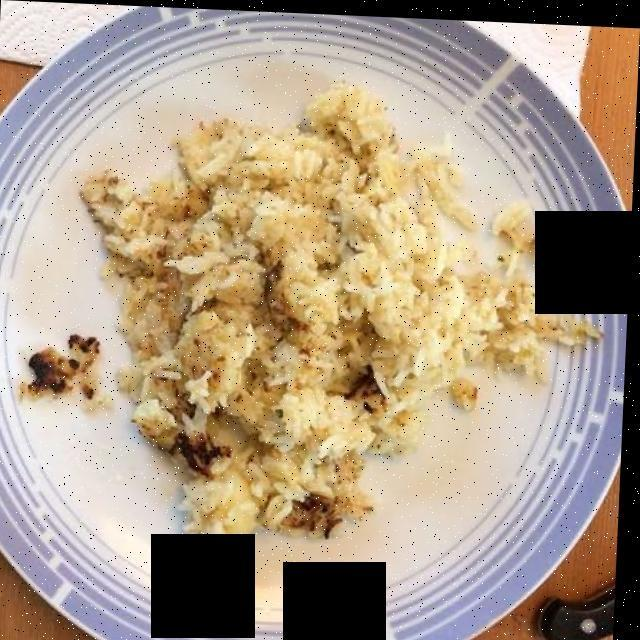rice: (23, 96, 600, 561)
